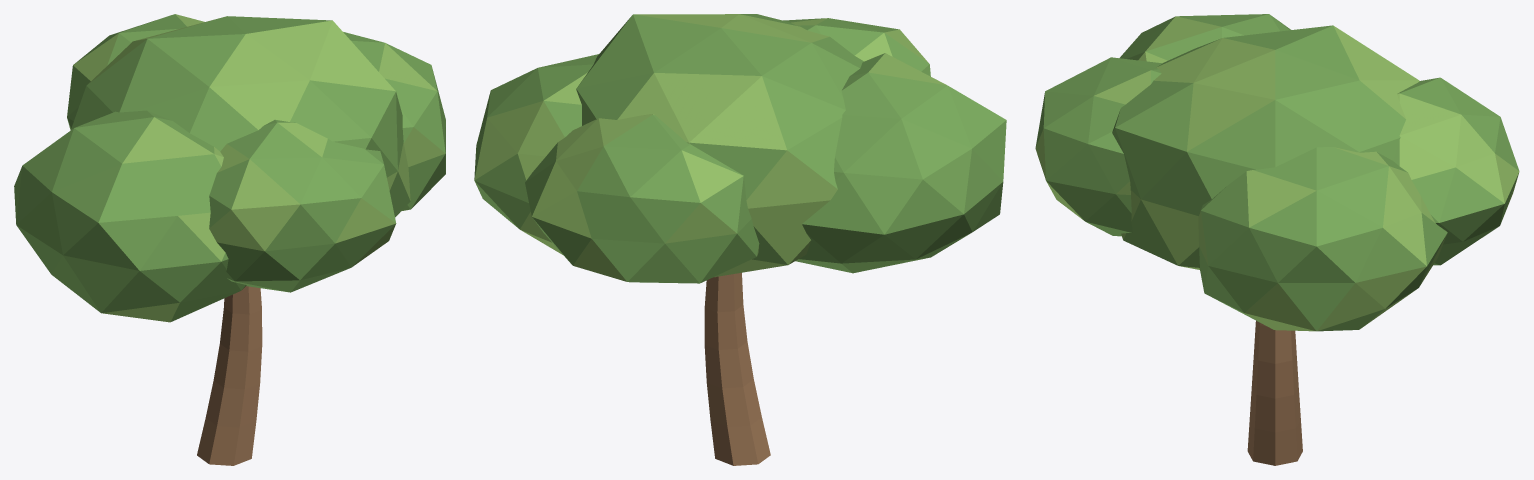
File: nmg_tree_round.glb
3 renders of one model, left to right at view 1: azimuth 30°, elevation 25°; view 2: azimuth 150°, elevation 25°; view 3: azimuth 270°, elevation 25°, orthographic.
Parts seen in each view (by area): view 1: nmg_tree_round; view 2: nmg_tree_round; view 3: nmg_tree_round.
Boxes of the visible parts, x1,y1,x2,y2 form: nmg_tree_round: (14,14,445,465); nmg_tree_round: (474,14,1006,465); nmg_tree_round: (1035,14,1519,465).
Size of the model in its own units: 4.29 by 3.86 by 4.09.
